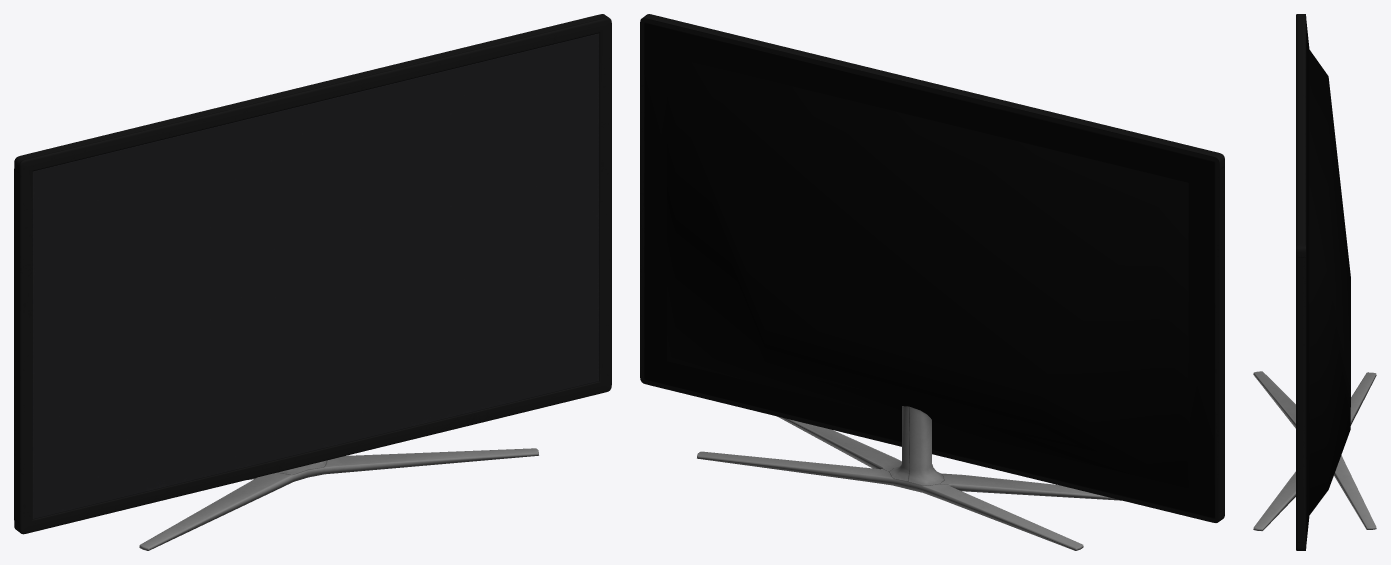
File: flat screen tv.fbx
3 views of the same model, side by side, from view 1: azimuth 30°, elevation 25°; view 2: azimuth 150°, elevation 25°; view 3: azimuth 270°, elevation 25° (orthographic). The views are drawn at different scales.
Visible parts, largest first — view 1: aa001; view 2: aa001; view 3: aa001.
Boxes of the visible parts, x1,y1,x2,y2 form: aa001: (14, 14, 611, 550); aa001: (640, 14, 1224, 550); aa001: (1253, 14, 1376, 550).
Bounding box in the file's own units: 200 × 127 × 44.21.
1 material, 1 textured.
